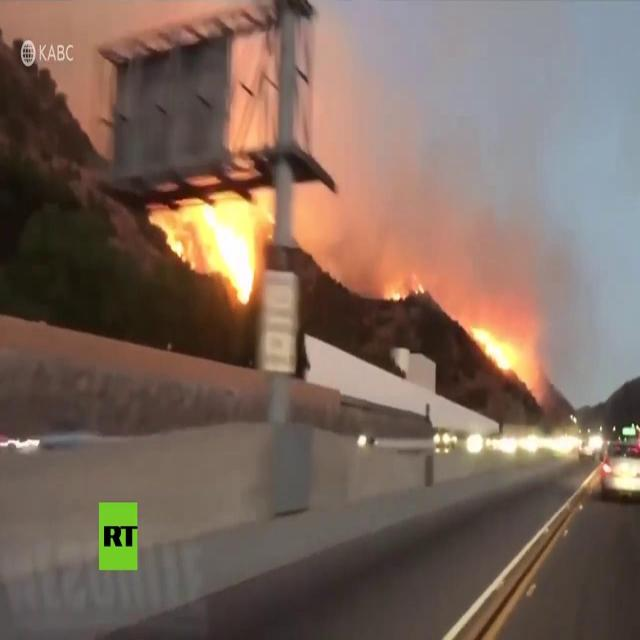Fire: (161, 203, 257, 302), (470, 319, 522, 374), (380, 279, 403, 301), (413, 284, 424, 298)
